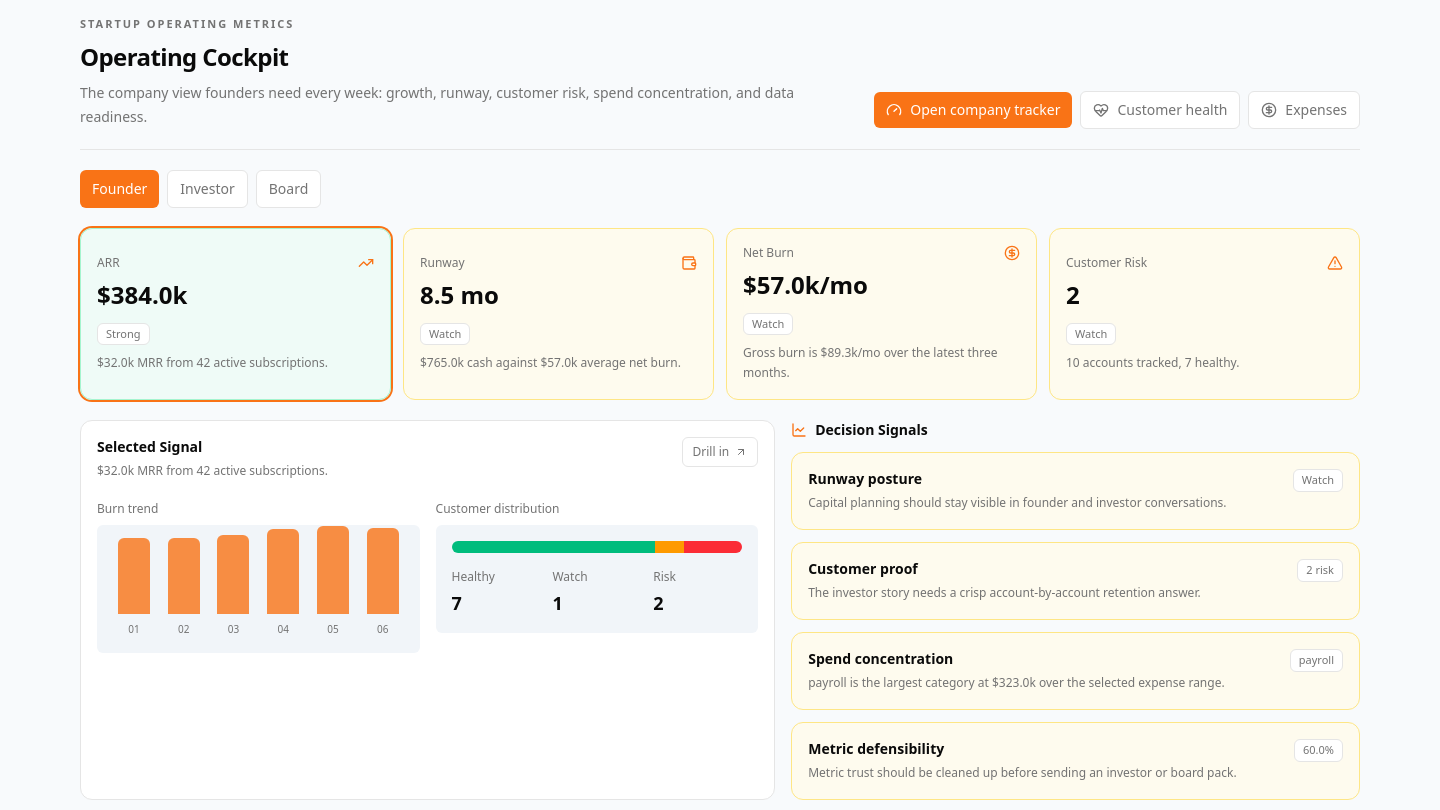
ExecutiveMetricsDashboard › switches between investor and board dashboard lenses
Step 1. Click the button "Investor" → point(208, 188), box [167, 170, 248, 208]
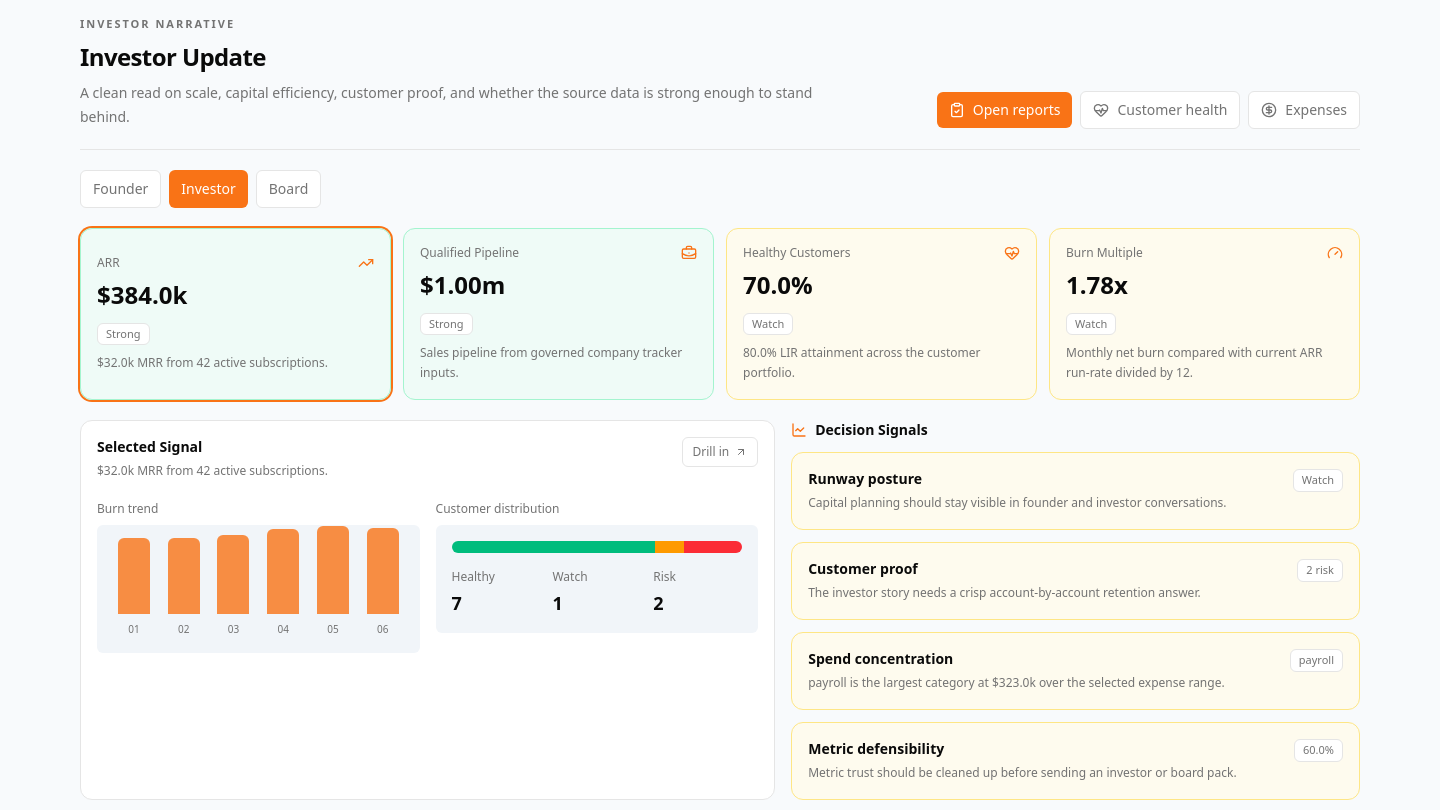
Now the heading "Investor Update" is shown, box [80, 40, 266, 72]
Now the text "Qualified Pipeline" is shown, box [420, 244, 519, 260]
Now the text "Burn Multiple" is shown, box [1066, 244, 1143, 260]
Step 2. Click the button "Board" → point(289, 188), box [256, 170, 321, 208]
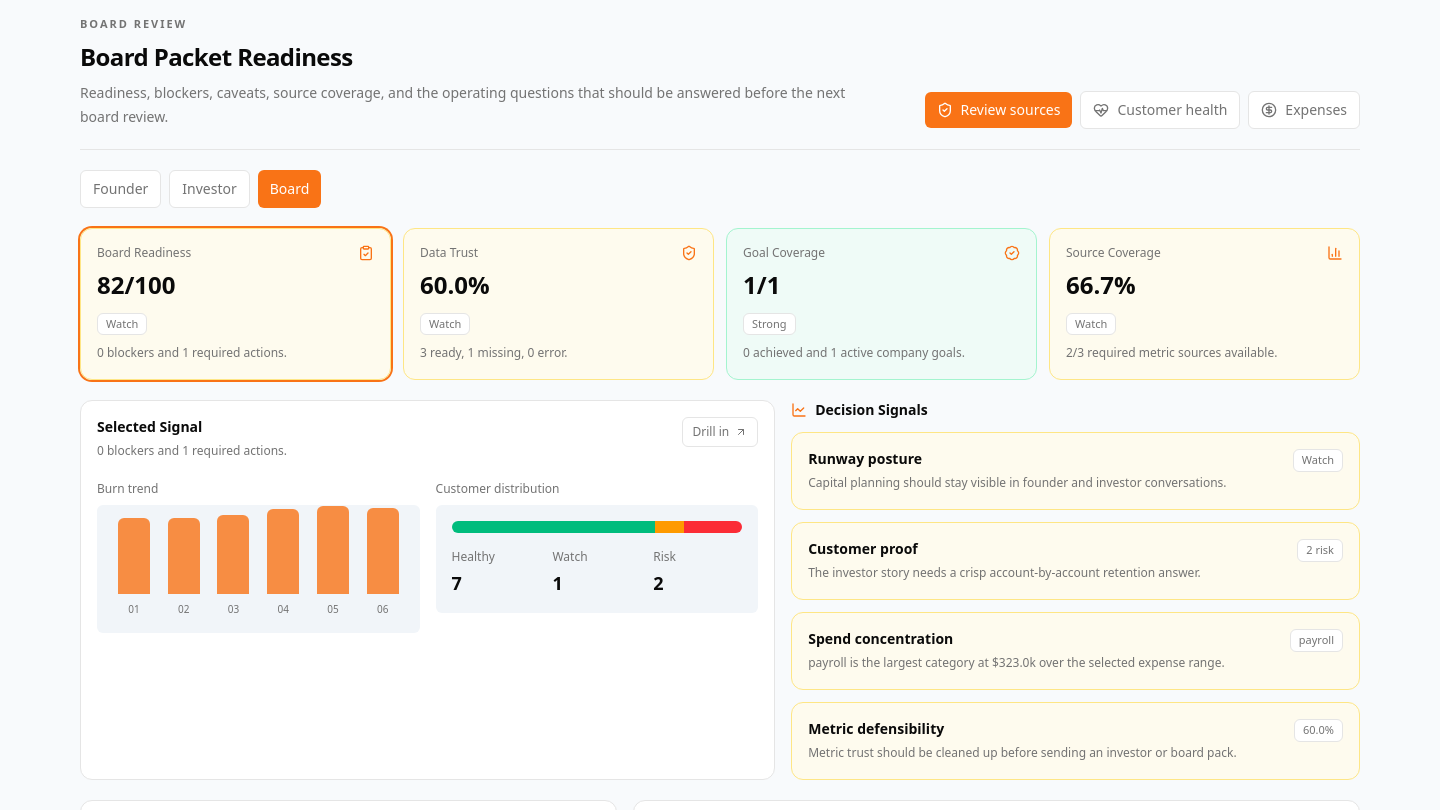
Now the heading "Board Packet Readiness" is shown, box [80, 40, 353, 72]
Now the text "Data Trust" is shown, box [420, 244, 478, 260]
Now the text "Goal Coverage" is shown, box [743, 244, 825, 260]
